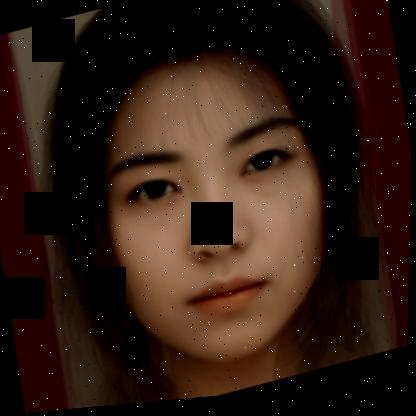Female: (78, 25, 352, 393)
